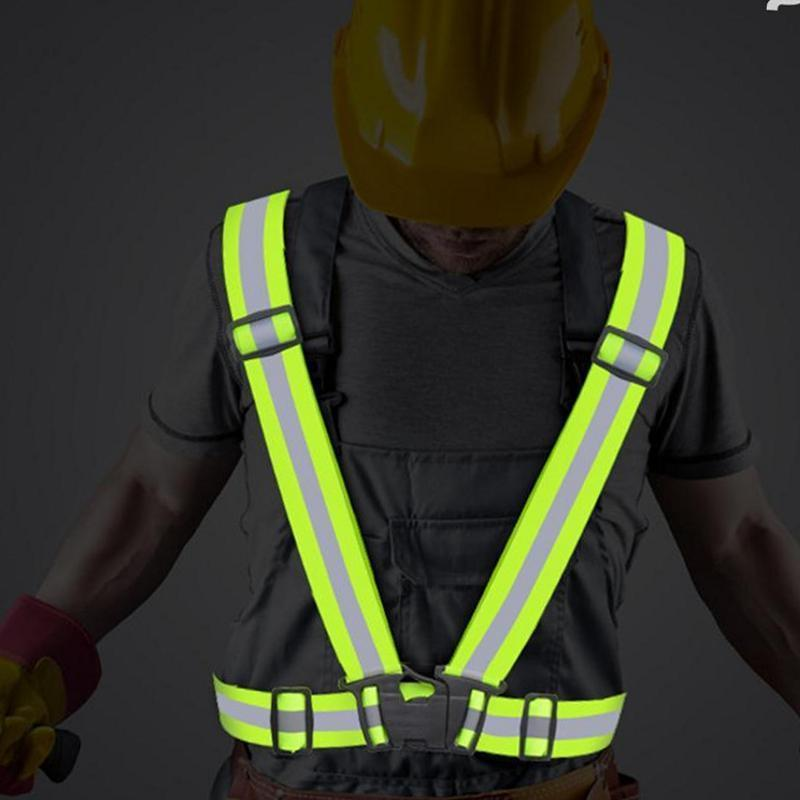Vest: (208, 198, 649, 722)
